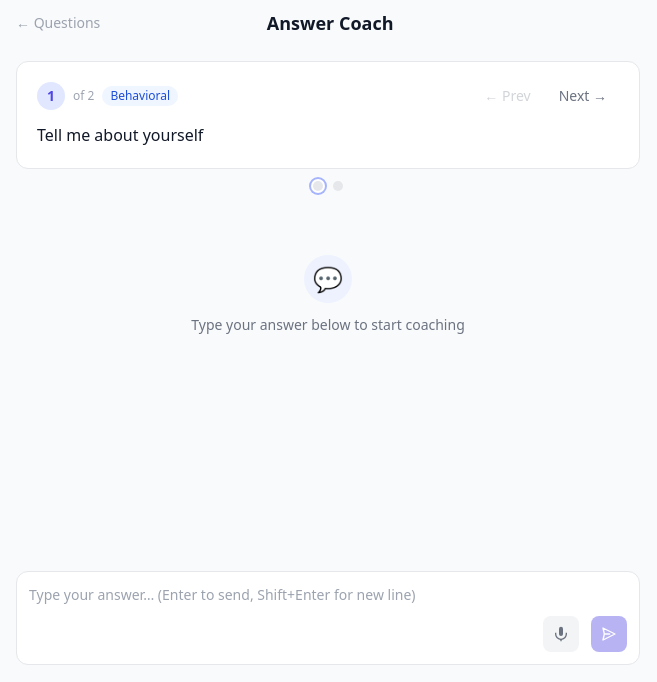
it: AnswerCoach › navigates to previous question when Prev clicked
This screenshot has width=657, height=682.
# go to question 2 first
Click the button "Next →" at (583, 96), box [547,82,619,110]
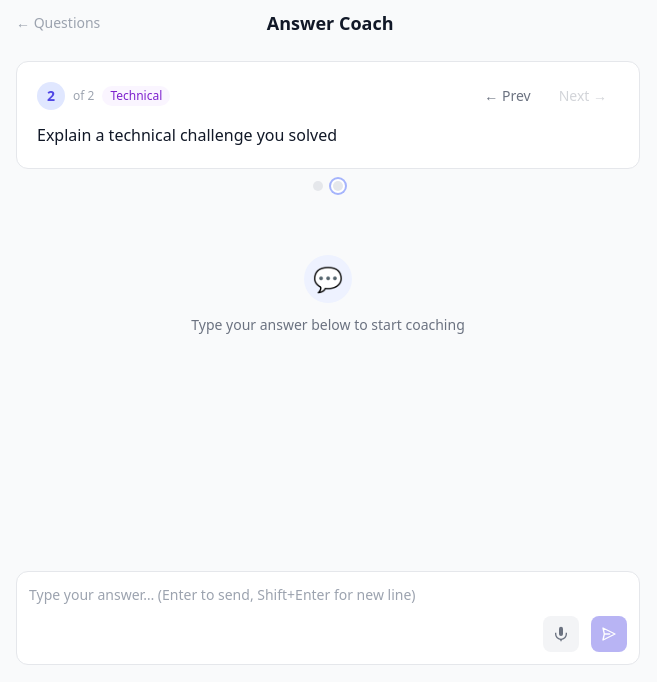
Result: the text "Explain a technical challenge you solved" is shown at [37,124,337,146]
#  go back
Click the button "← Prev" at (507, 96), box [472,82,543,110]
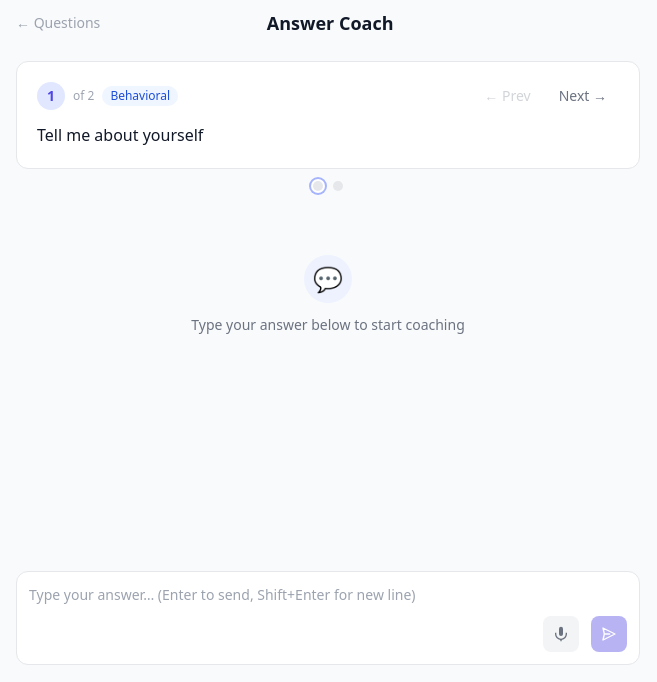
Result: the text "Tell me about yourself" is shown at [37,124,203,146]
